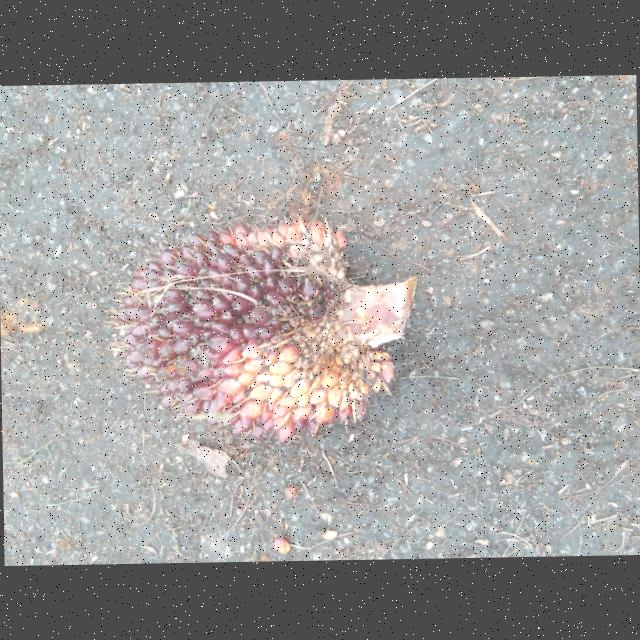Ripe: (113, 211, 398, 439)
